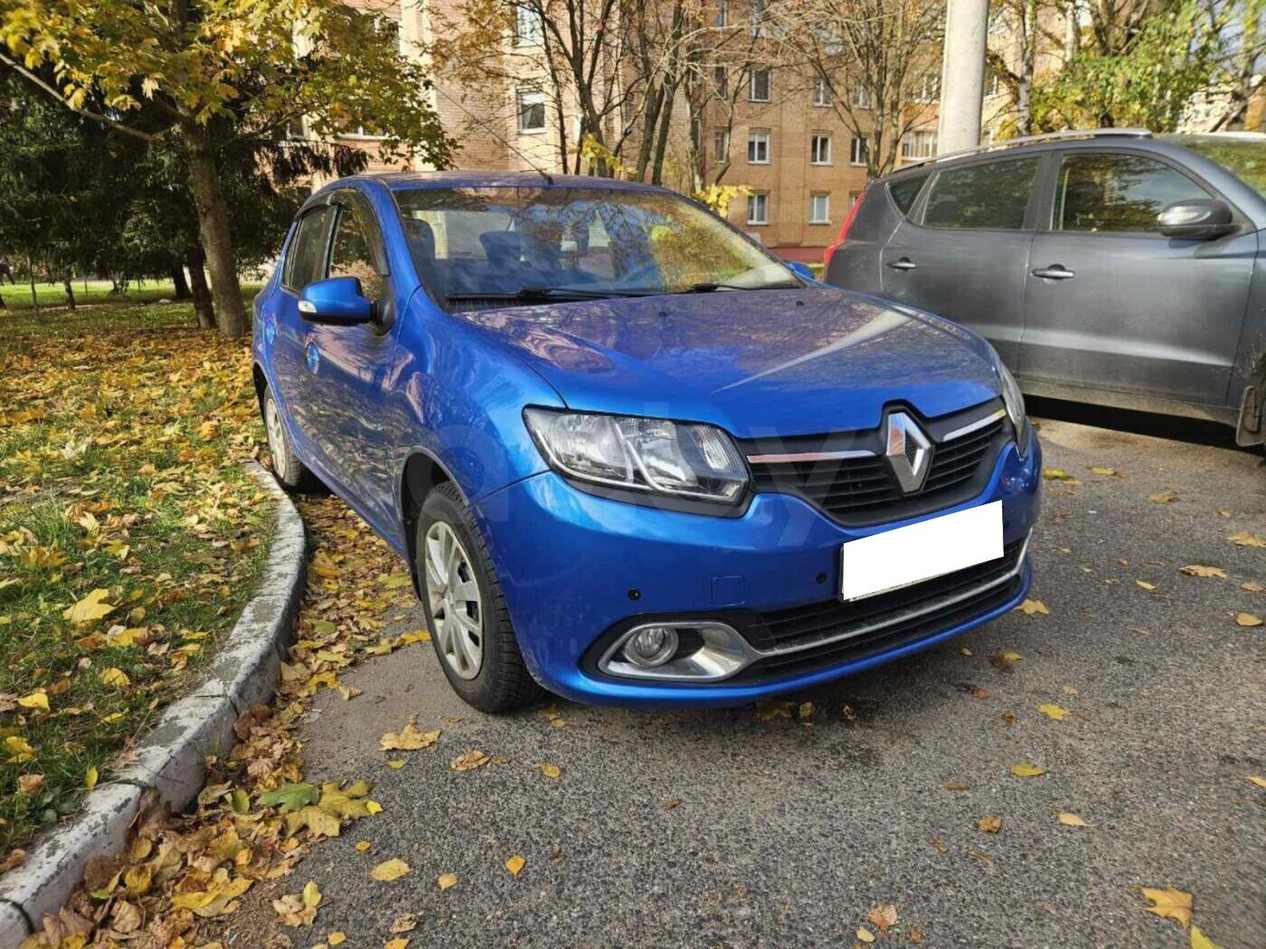Logan_2013-2018: (242, 164, 1053, 726)
